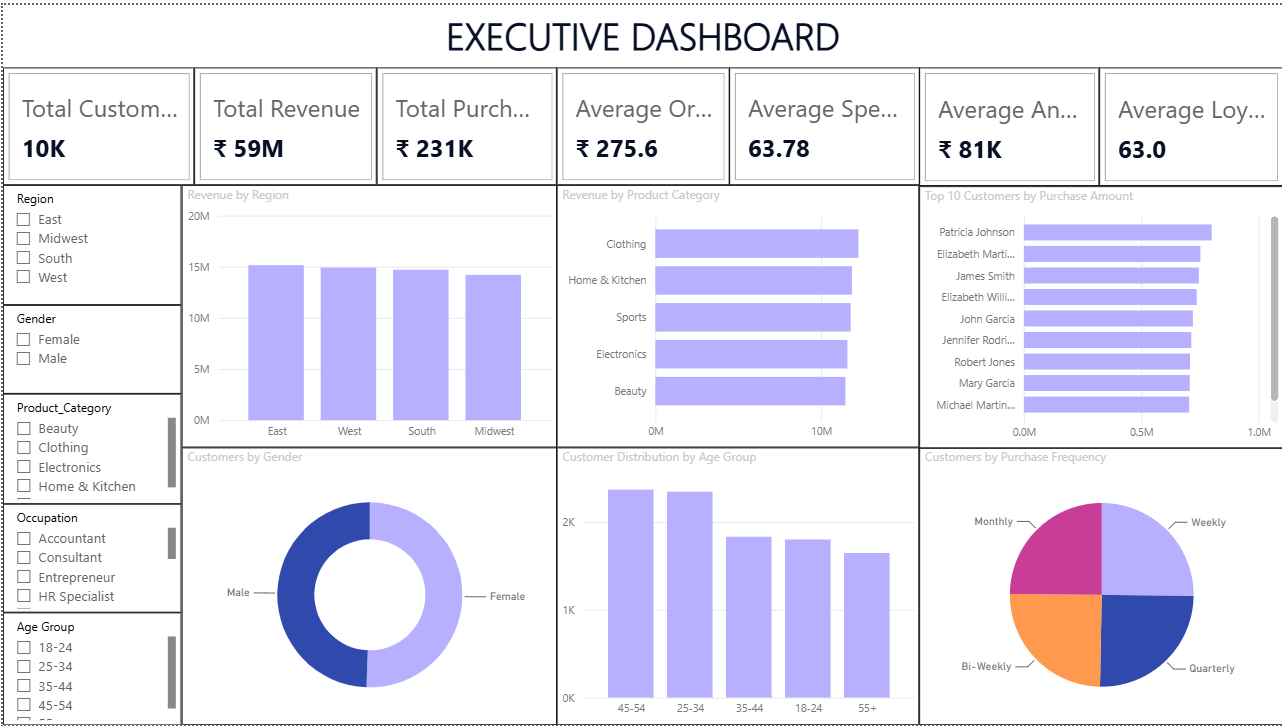

This screenshot's page, from the dashboard's own definition file:
{"tool":"powerbi","page":{"name":"EXECUTIVE DASHBOARD","canvas":[1280,720],"ordinal":0},"visuals":[{"type":"cardVisual","fields":{"Data":["Customer Data.Total Customers"]},"box":[0,62.5,191.2,117.5],"z":0},{"type":"cardVisual","fields":{"Data":["Customer Data.Average Order Value"]},"box":[553.8,62.5,172.5,117.5],"z":1000},{"type":"cardVisual","fields":{"Data":["Customer Data.Average Spending Score"]},"box":[726.2,62.5,190,117.5],"z":2000},{"type":"cardVisual","fields":{"Data":["Customer Data.Average Loyalty Score"]},"box":[1096.2,62.5,183.8,118.8],"z":3000},{"type":"cardVisual","fields":{"Data":["Customer Data.Average Annual Income"]},"box":[916.2,62.5,180,118.8],"z":4000},{"type":"cardVisual","fields":{"Data":["Customer Data.Total Purchases"]},"box":[373.8,62.5,180,117.5],"z":5000},{"type":"cardVisual","fields":{"Data":["Customer Data.Total Revenue"]},"box":[191.2,62.5,182.5,117.5],"z":6000},{"type":"clusteredColumnChart","title":"Revenue by Region","fields":{"Category":["Customer Data.Region"],"Y":["Sum(Customer Data.Purchase_Amount)"]},"box":[178.8,180,375,262.5],"z":7000},{"type":"donutChart","title":"Customers by Gender","fields":{"Category":["Customer Data.Gender"],"Y":["CountNonNull(Customer Data.Customer_ID)"]},"box":[178.8,442.5,375,277.5],"z":8000},{"type":"barChart","title":"Revenue by Product Category","fields":{"Category":["Customer Data.Product_Category"],"Y":["Sum(Customer Data.Purchase_Amount)"]},"box":[553.8,180,362.5,262.5],"z":9000},{"type":"columnChart","title":"Customer Distribution by Age Group","fields":{"Category":["Customer Data.Age Group"],"Y":["CountNonNull(Customer Data.Customer_ID)"]},"box":[553.8,442.5,362.5,277.5],"z":10000},{"type":"barChart","title":"Top 10 Customers by Purchase Amount","fields":{"Category":["Customer Data.Customer_Name"],"Y":["Sum(Customer Data.Purchase_Amount)"]},"box":[916.2,181.2,363.8,262.5],"z":11000},{"type":"textbox","box":[0,0,1280,62.5],"z":12000},{"type":"slicer","fields":{"Values":["Customer Data.Region"]},"box":[0,180,178.8,120],"z":13000},{"type":"slicer","fields":{"Values":["Customer Data.Gender"]},"box":[0,300,178.8,88.8],"z":14000},{"type":"slicer","fields":{"Values":["Customer Data.Product_Category"]},"box":[0,388.8,178.8,110],"z":15000},{"type":"slicer","fields":{"Values":["Customer Data.Occupation"]},"box":[0,498.8,178.8,108.8],"z":16000},{"type":"slicer","fields":{"Values":["Customer Data.Age Group"]},"box":[0,607.5,178.8,112.5],"z":17000},{"type":"pieChart","title":"Customers by Purchase Frequency","fields":{"Category":["Customer Data.Purchase_Frequency"],"Y":["CountNonNull(Customer Data.Customer_ID)"]},"box":[916.2,442.5,363.8,277.5],"z":18000}]}

Visuals, with their boxes in screenshot pixels (x1, y1, x2, y2), scaled from the page's 1280x720 canvas onto the 1282x726 screenshot:
cardVisual - Customer Data.Total Customers: (0,63,191,182)
cardVisual - Customer Data.Average Order Value: (555,63,727,182)
cardVisual - Customer Data.Average Spending Score: (727,63,918,182)
cardVisual - Customer Data.Average Loyalty Score: (1098,63,1281,183)
cardVisual - Customer Data.Average Annual Income: (918,63,1098,183)
cardVisual - Customer Data.Total Purchases: (374,63,555,182)
cardVisual - Customer Data.Total Revenue: (191,63,374,182)
"Revenue by Region" clusteredColumnChart: (179,182,555,446)
"Customers by Gender" donutChart: (179,446,555,725)
"Revenue by Product Category" barChart: (555,182,918,446)
"Customer Distribution by Age Group" columnChart: (555,446,918,725)
"Top 10 Customers by Purchase Amount" barChart: (918,183,1281,447)
textbox: (0,0,1281,63)
slicer - Customer Data.Region: (0,182,179,302)
slicer - Customer Data.Gender: (0,302,179,392)
slicer - Customer Data.Product_Category: (0,392,179,503)
slicer - Customer Data.Occupation: (0,503,179,613)
slicer - Customer Data.Age Group: (0,613,179,725)
"Customers by Purchase Frequency" pieChart: (918,446,1281,725)
